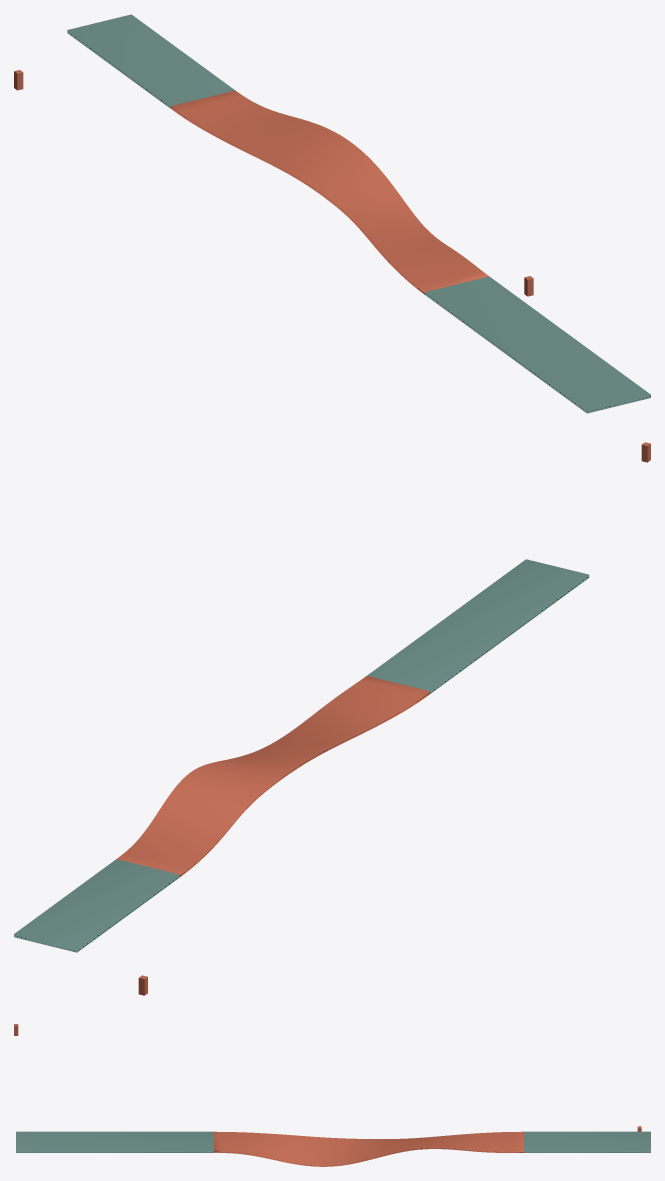
Rendered from ribbon-bridge-104729-boost.glb.
3 views of the same model, one above another, from view 1: azimuth 30°, elevation 25°; view 2: azimuth 150°, elevation 25°; view 3: azimuth 270°, elevation 25° (orthographic). The views are drawn at different scales.
Parts seen in each view (by area): view 1: study-deck-render, runout-deck-render, approach-deck-render; view 2: study-deck-render, runout-deck-render, approach-deck-render; view 3: study-deck-render, runout-deck-render, approach-deck-render.
Part boxes in pixels (left/top/right/bottom): study-deck-render: left=171, top=90, right=488, bottom=294; runout-deck-render: left=425, top=276, right=650, bottom=413; approach-deck-render: left=67, top=14, right=234, bottom=108; study-deck-render: left=117, top=676, right=429, bottom=877; runout-deck-render: left=367, top=559, right=589, bottom=693; approach-deck-render: left=14, top=859, right=179, bottom=952; study-deck-render: left=213, top=1131, right=523, bottom=1166; runout-deck-render: left=16, top=1131, right=213, bottom=1152; approach-deck-render: left=524, top=1131, right=650, bottom=1152.
Size of what is drawn, in the model's own units: 74.68 by 88 by 452.
